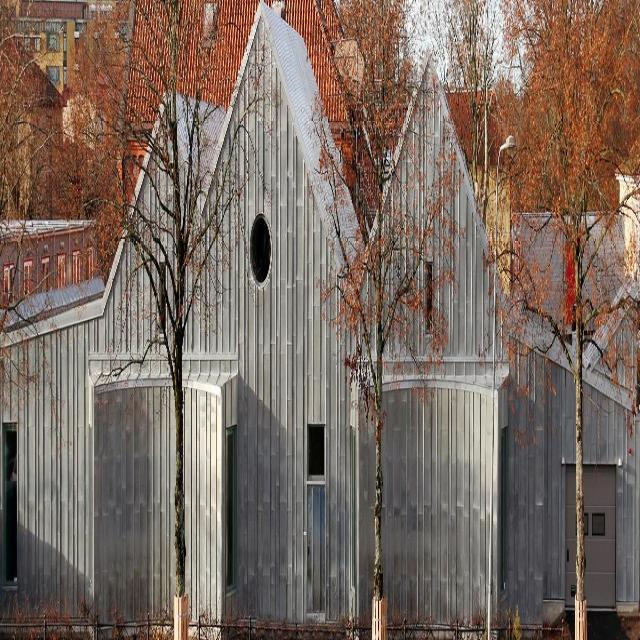door: (564, 466, 616, 614), (306, 477, 324, 622)
plant: (302, 0, 467, 445), (481, 0, 640, 441), (0, 0, 131, 308), (447, 0, 503, 215)
wall: (0, 0, 640, 637)
windows: (0, 423, 19, 592), (225, 425, 237, 592), (250, 218, 270, 284), (308, 421, 326, 478), (427, 260, 432, 333)
